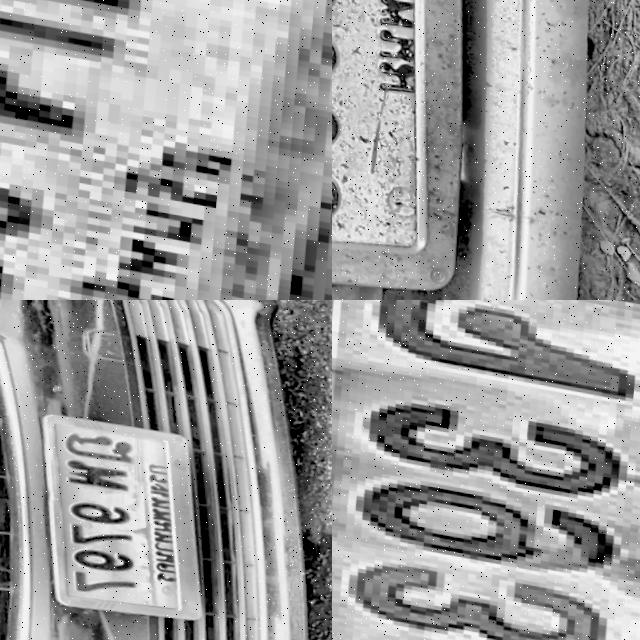license-plate: (332, 300, 640, 640), (0, 0, 332, 300), (332, 0, 604, 300), (20, 405, 221, 625)
